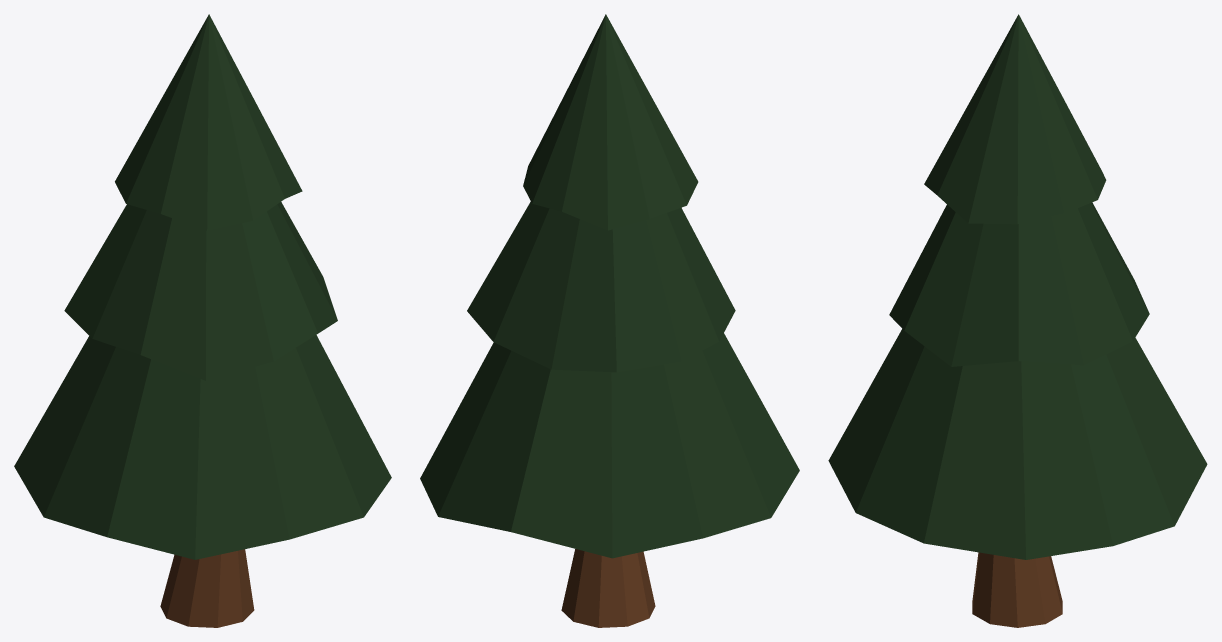
The model's file is SM_TestTree3.fbx.
3 views of the same model, side by side, from view 1: azimuth 30°, elevation 25°; view 2: azimuth 150°, elevation 25°; view 3: azimuth 270°, elevation 25° (orthographic).
Parts seen in each view (by area): view 1: pCone3, pCone2, pCone1, pCylinder2; view 2: pCone3, pCone2, pCone1, pCylinder2; view 3: pCone3, pCone2, pCone1, pCylinder2.
Part boxes in pixels (x1,y1,x2,y2): pCone3: (14, 335, 391, 559); pCone2: (64, 202, 337, 380); pCone1: (115, 14, 302, 230); pCylinder2: (160, 549, 254, 627); pCone3: (420, 333, 799, 558); pCone2: (467, 201, 735, 372); pCone1: (523, 14, 698, 230); pCylinder2: (561, 549, 655, 627); pCone3: (828, 329, 1207, 559); pCone2: (889, 202, 1149, 366); pCone1: (924, 14, 1106, 224); pCylinder2: (972, 552, 1062, 627).
Size of the model in its own units: 7.82 by 13.7 by 7.91.
